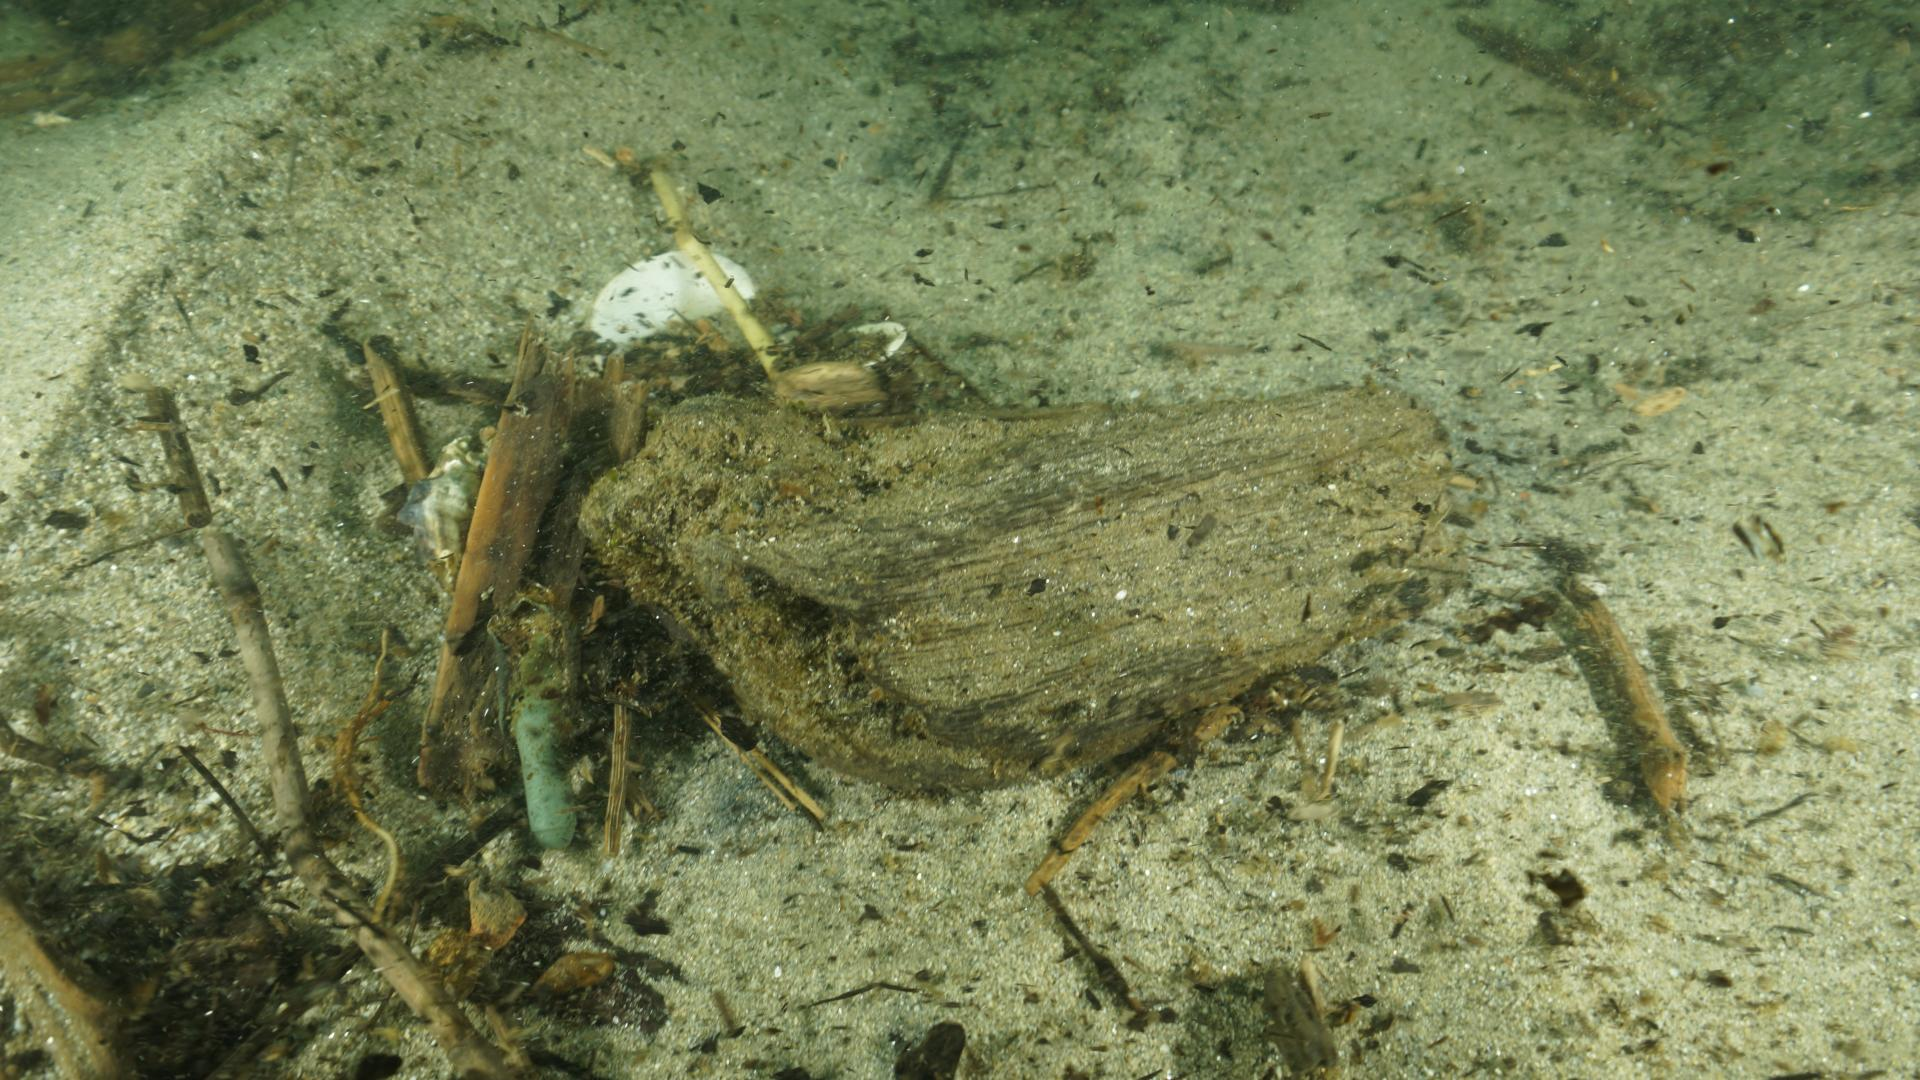wood: (575, 390, 1457, 790)
